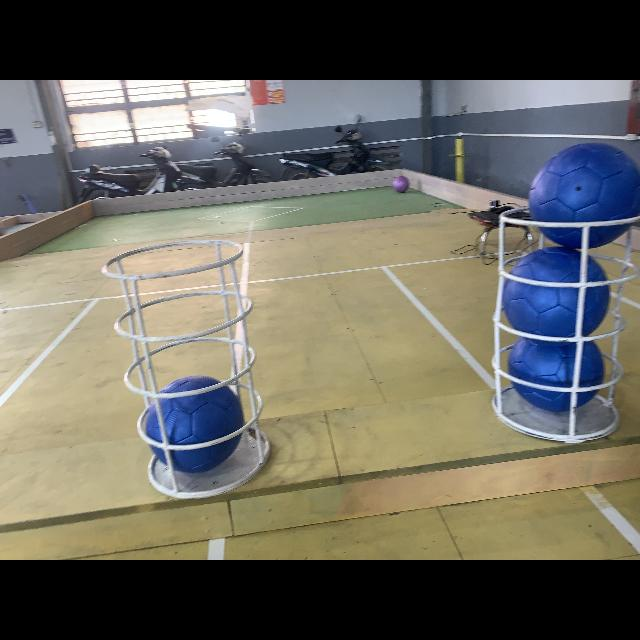B: (530, 140, 640, 248), (505, 249, 609, 341), (147, 374, 241, 474), (506, 336, 606, 412)
